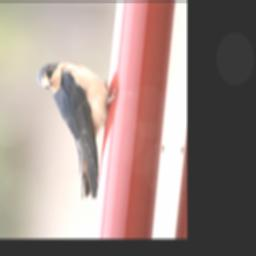Swallow: (21, 57, 125, 202)
